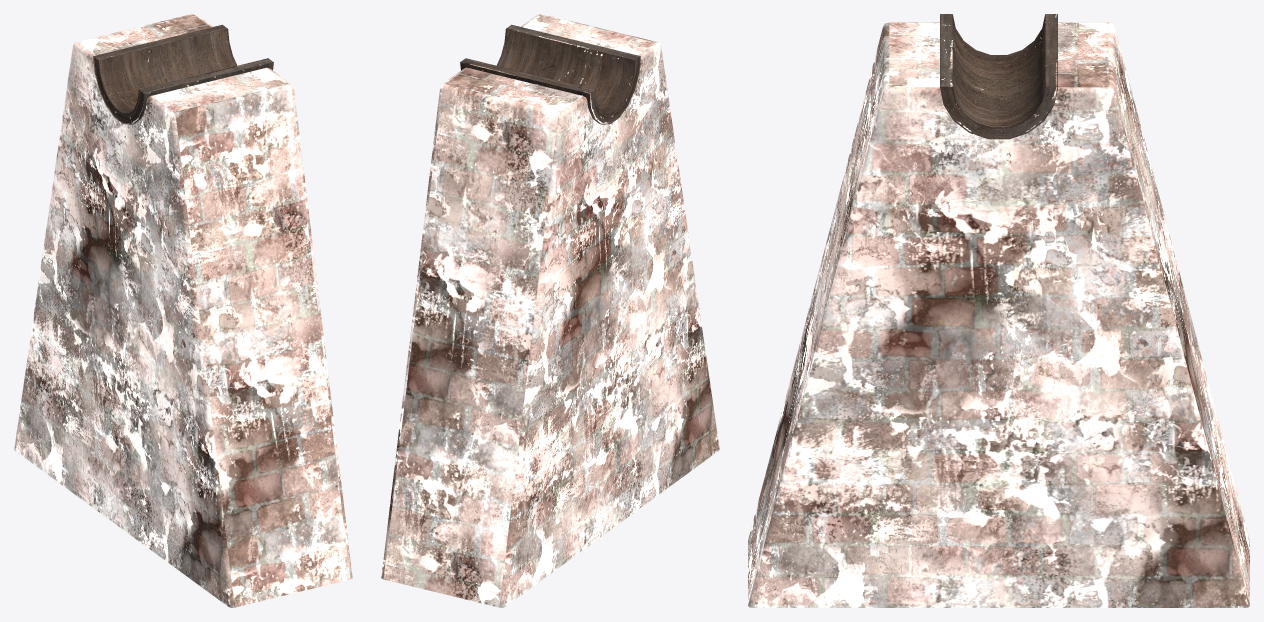
The picture shows the model from 3 angles, left to right: view 1: azimuth 30°, elevation 25°; view 2: azimuth 150°, elevation 25°; view 3: azimuth 270°, elevation 25°; orthographic projection. The views are drawn at different scales.
Parts seen in each view (by area): view 1: SM_water_wheel_part_09_LOD0; view 2: SM_water_wheel_part_09_LOD0; view 3: SM_water_wheel_part_09_LOD0.
Part boxes in pixels (x1,y1,x2,y2): SM_water_wheel_part_09_LOD0: (14,14,352,607); SM_water_wheel_part_09_LOD0: (381,14,719,607); SM_water_wheel_part_09_LOD0: (748,14,1249,607).
Bounding box in the file's own units: 67 × 196 × 225.
2 materials, 2 textured.
